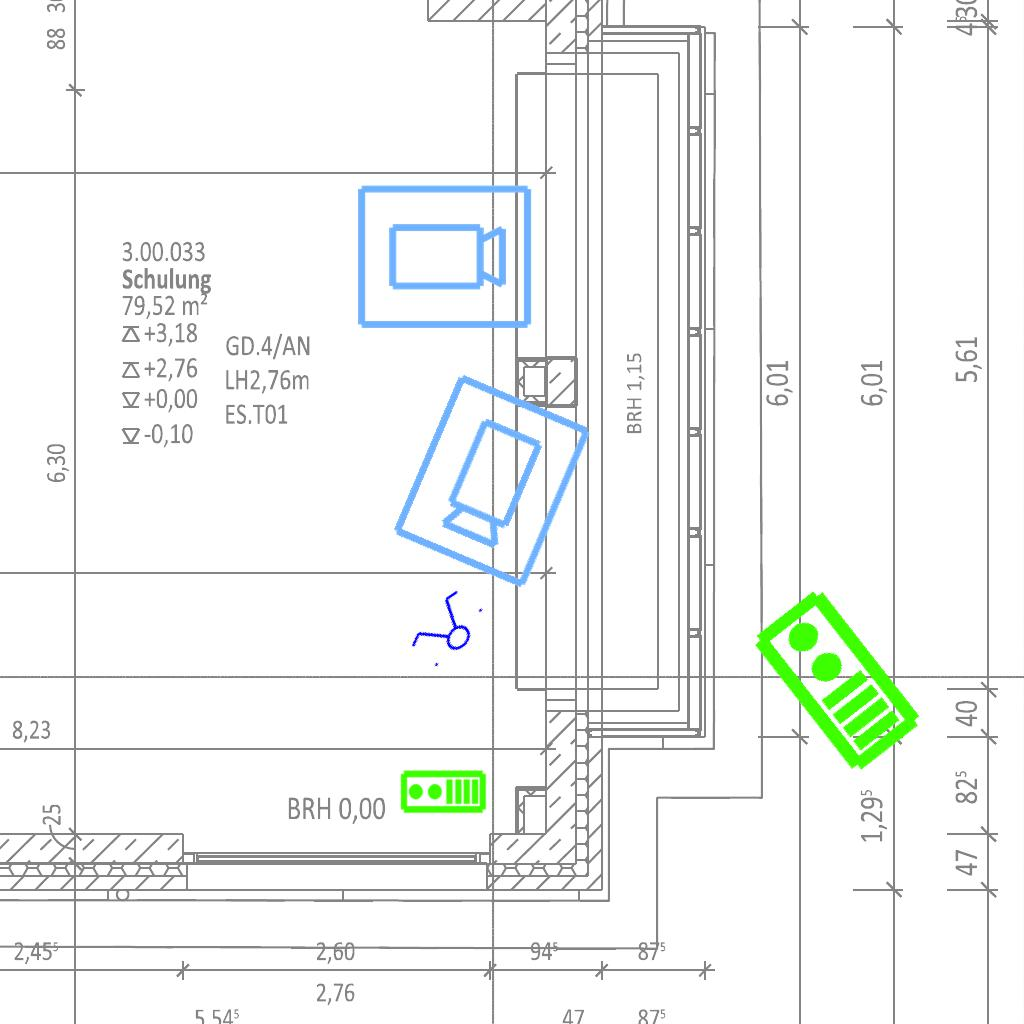Gegensprechanlage_mit_Video: (743, 582, 928, 780), (399, 769, 487, 816)
KFO_Kamera_mit_Festobjektiv: (384, 366, 598, 594), (353, 181, 535, 335)
Serienschalter: (402, 582, 494, 678)
